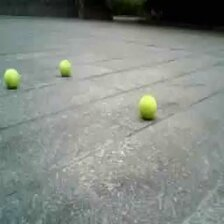tennis: (138, 95, 157, 119), (3, 67, 20, 89), (60, 59, 71, 75)
